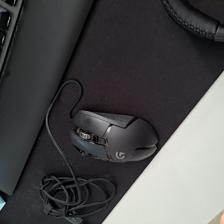mouse: (67, 108, 159, 161)
